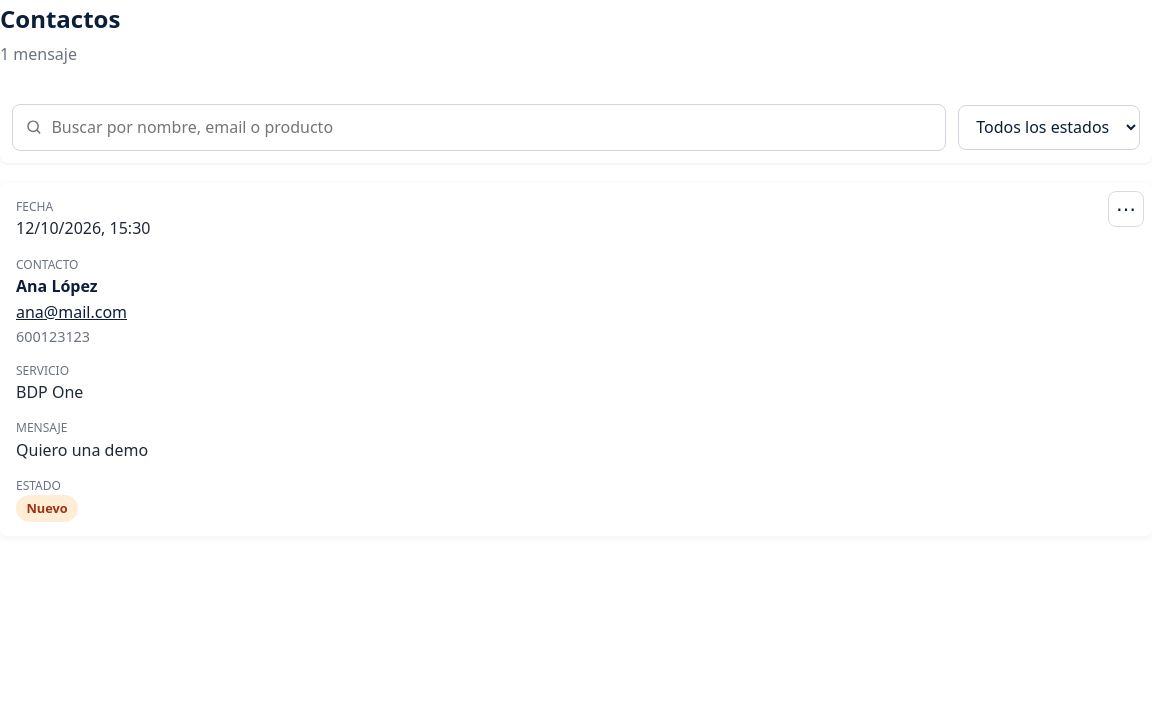
admin screens › Contactos: deletes a contact after confirming
The width and height of the screenshot is (1152, 720).
Click the button with test id "row-actions" showing "⋯": (1126, 209) [1108, 191, 1144, 227]
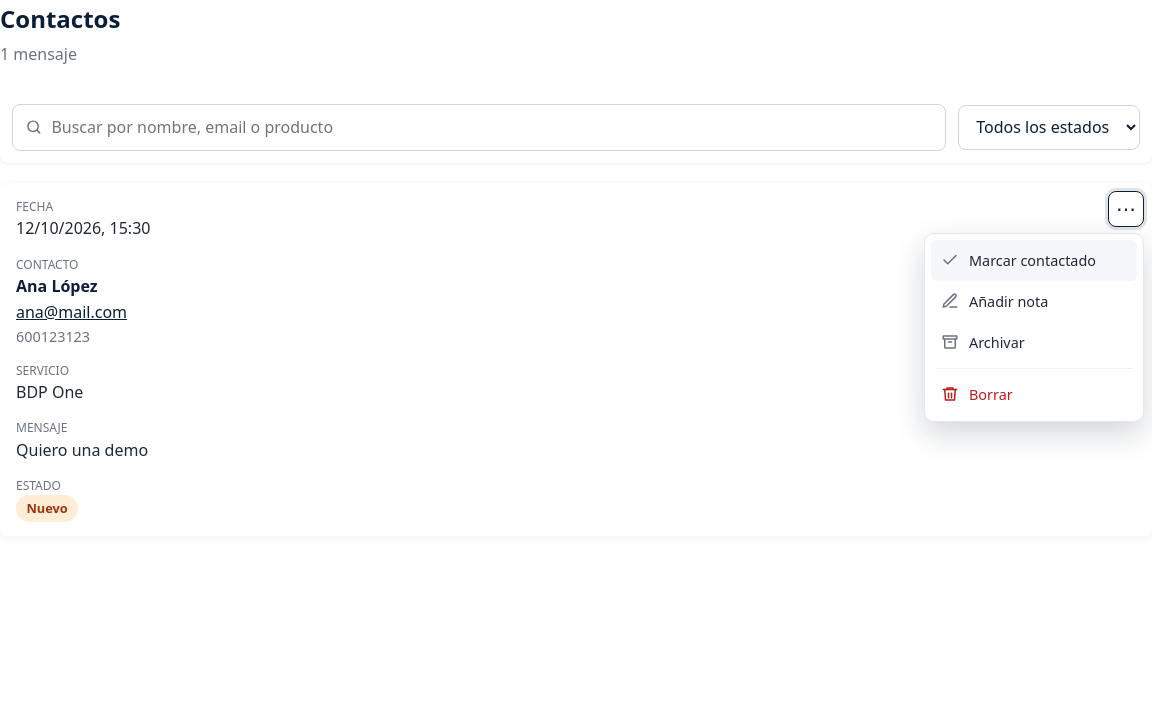
Click the menu item "Borrar": (1034, 394) [931, 374, 1137, 415]
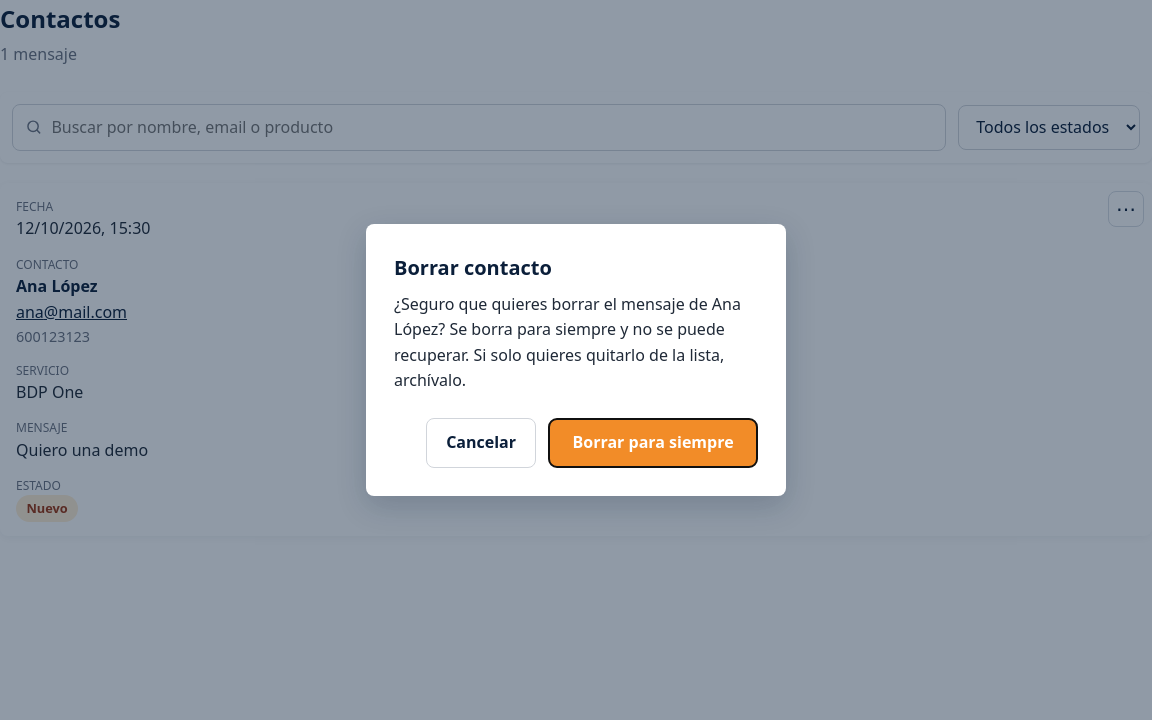
Expected: the element with class "confirm-dialog" shows "Se borra para siempre", [394, 293, 741, 391]
Click the button with class "confirm-dialog__confirm": (653, 443) [548, 418, 758, 468]
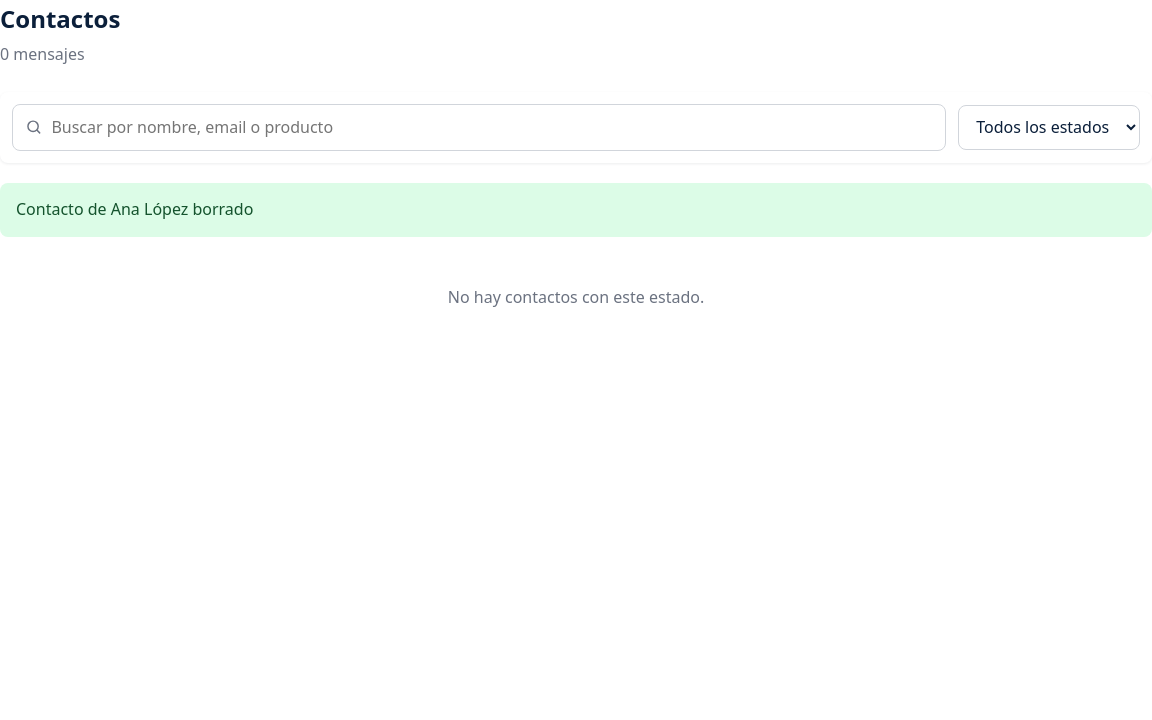
Expected: the text "No hay contactos" is shown, [448, 286, 704, 308]
